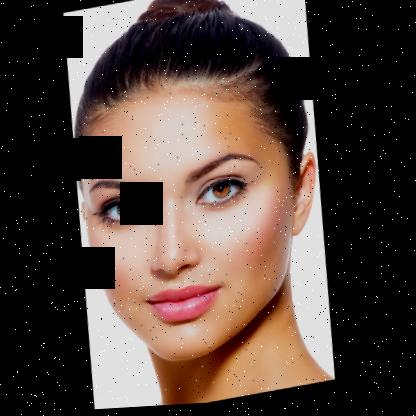Female: (63, 67, 339, 378)
